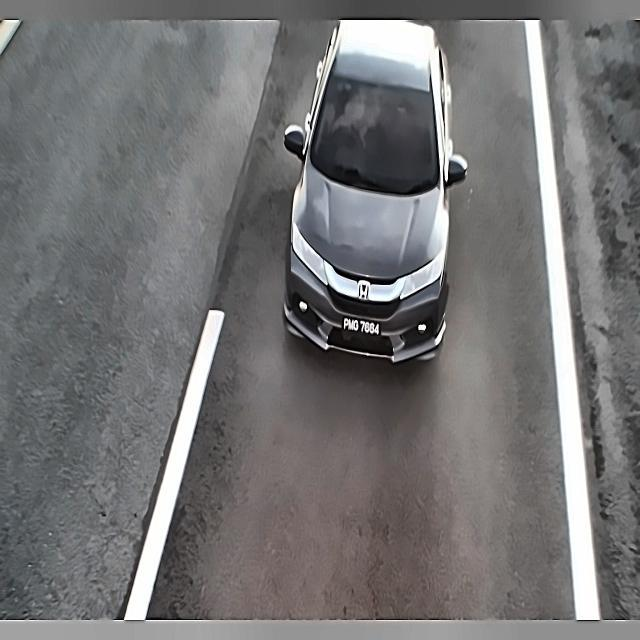car: (340, 315, 384, 346)
